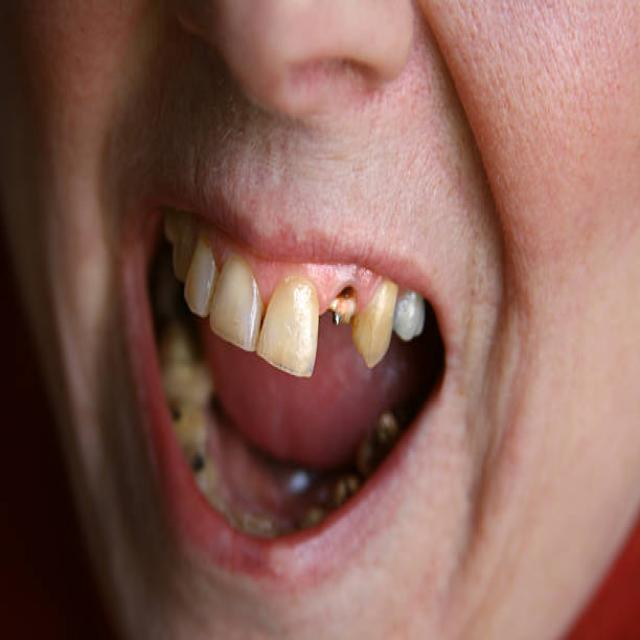caries: (324, 281, 361, 341), (161, 386, 199, 443), (180, 442, 220, 494)
